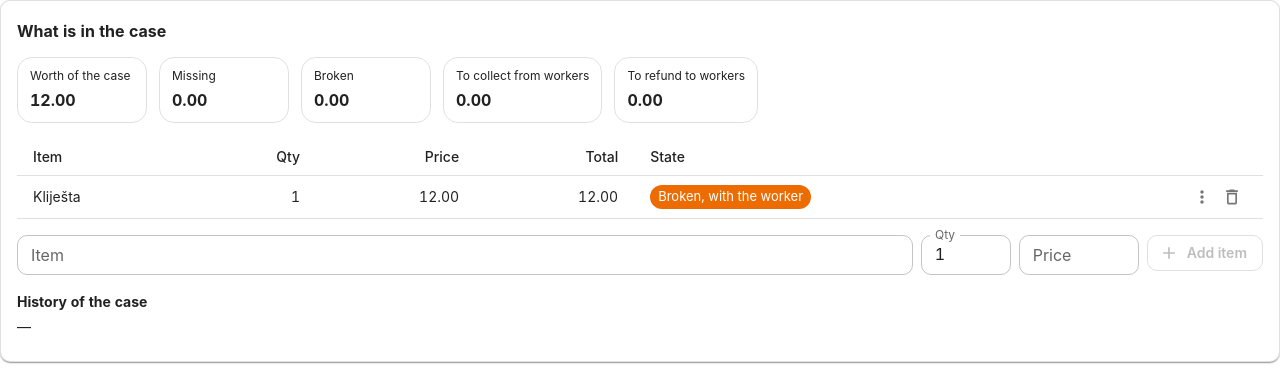
ToolKitCard › lets a broken item only be handed in to the office first
The width and height of the screenshot is (1280, 381).
Expected: the text "Kliješta" is shown, [17, 175, 193, 218]
Click the button named "What next": [1202, 197] box [1187, 182, 1217, 212]
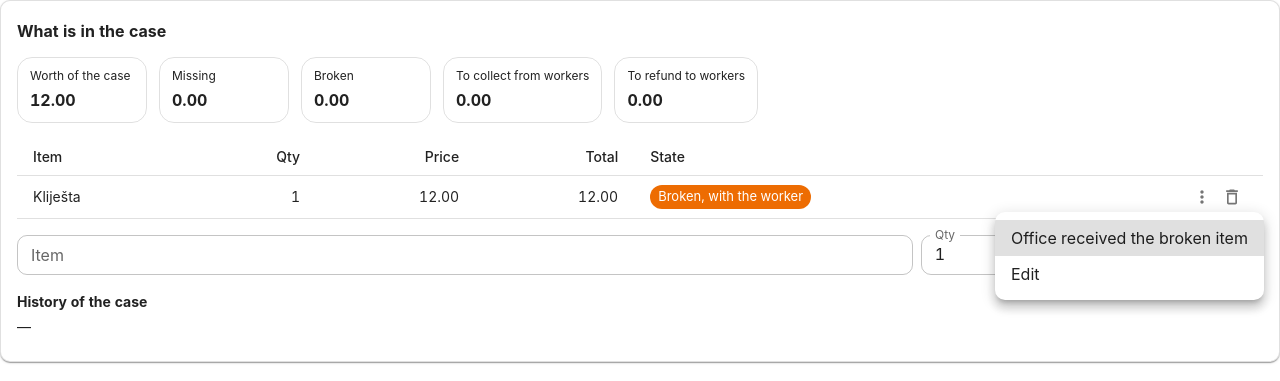
Expected: the menu item "Office received the broken item" is shown, [995, 220, 1264, 256]
